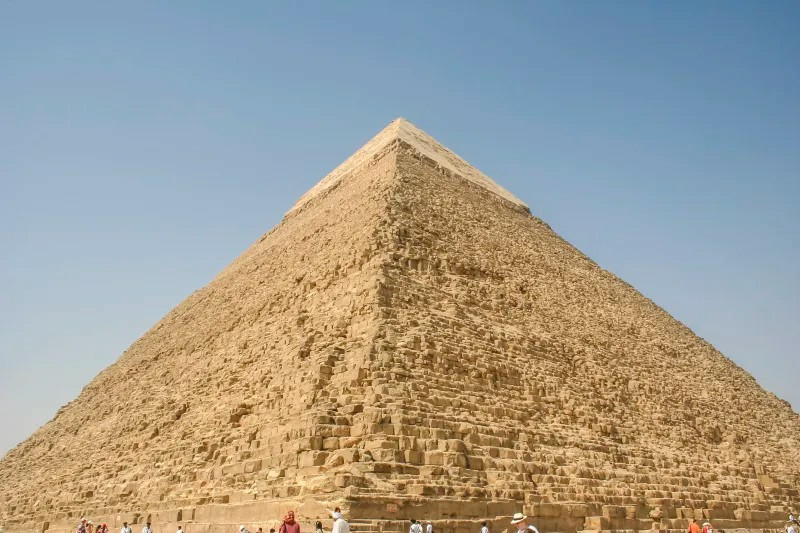Pyramid: (3, 118, 800, 533)
